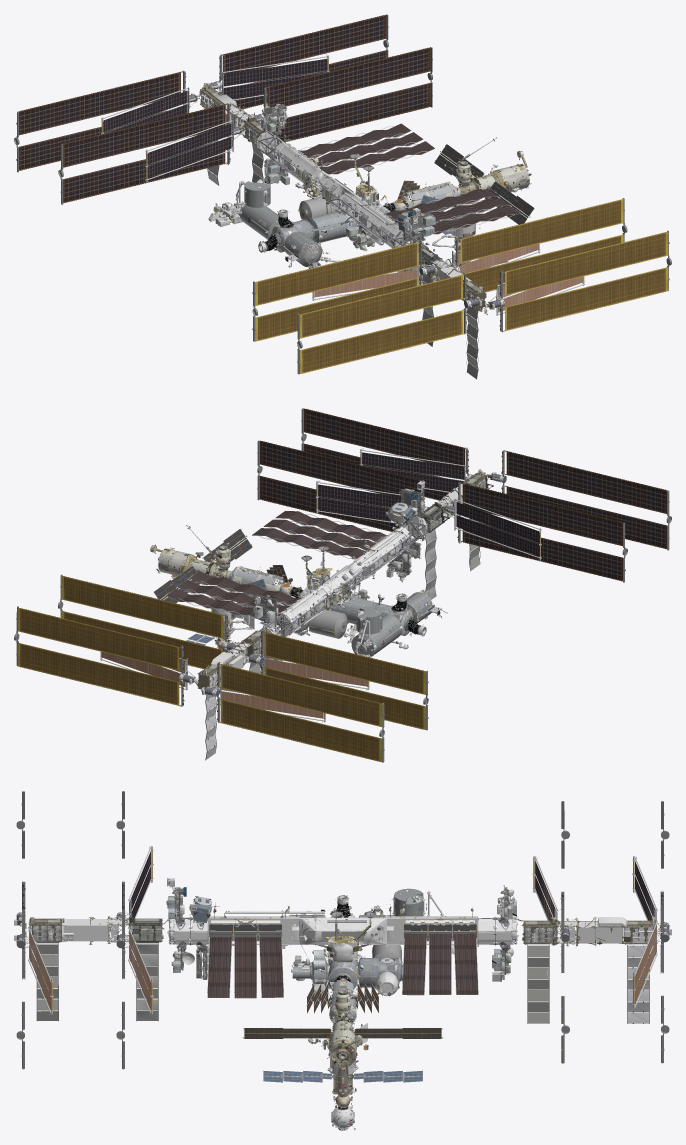
The model's file is iss.glb.
3 renders of one model, top to bottom at view 1: azimuth 30°, elevation 25°; view 2: azimuth 150°, elevation 25°; view 3: azimuth 270°, elevation 25°, orthographic. The views are drawn at different scales.
Visible parts, largest first — view 1: P4_Array_2A.001 (×2), S4_Array_1A.001 (×2), P4_Array_4A.001, S4_Array_3A.001, P6_2B_Array.001, IROSA_Deployed_P44A (×3), P6_4B_Array.001, IROSA_Deployed_P64B (×3), P1_Radiator.003, S1_Radiator.001, Zvezda_SM, Truss_S6 (+15 smaller); view 2: S4_Array_1A.001 (×2), P4_Array_2A.001 (×2), P6_2B_Array.001, P6_4B_Array.001, P4_Array_4A.001, S4_Array_3A.001, IROSA_Deployed_P64B (×3), IROSA_Deployed_P44A (×3), S1_Radiator.001, P1_Radiator.003, Zvezda_SM, Truss_P6 (+13 smaller); view 3: S1_Radiator.001, P1_Radiator.003, Truss_S6, Zvezda_SM, Truss_P6, IROSA_Deployed_P64B (×3), Truss_P4, IROSA_Deployed_P44A (×3), MLM.001, Truss_S4.001, Truss_S0.001, Zarya_FGB.001 (+11 smaller).
Boxes of the visible parts, x1,y1,x2,y2 form: P4_Array_2A.001 (×2): (250, 47, 671, 332); S4_Array_1A.001 (×2): (252, 240, 481, 374); P4_Array_4A.001: (58, 103, 241, 204); S4_Array_3A.001: (453, 198, 627, 292); P6_2B_Array.001: (14, 70, 197, 172); IROSA_Deployed_P44A (×3): (101, 87, 419, 300); P6_4B_Array.001: (204, 14, 388, 109); IROSA_Deployed_P64B (×3): (221, 55, 584, 315); P1_Radiator.003: (286, 123, 434, 174); S1_Radiator.001: (373, 189, 521, 244); Zvezda_SM: (434, 144, 534, 224); Truss_S6: (439, 266, 490, 379); S4_Array_1A.001 (×2): (446, 450, 671, 582); P4_Array_2A.001 (×2): (58, 408, 473, 669); P6_2B_Array.001: (202, 662, 384, 762); P6_4B_Array.001: (14, 606, 195, 706); P4_Array_4A.001: (246, 629, 428, 730); S4_Array_3A.001: (257, 440, 429, 541); IROSA_Deployed_P64B (×3): (100, 449, 466, 690); IROSA_Deployed_P44A (×3): (220, 498, 541, 722); S1_Radiator.001: (252, 510, 398, 558); P1_Radiator.003: (166, 571, 312, 632); Zvezda_SM: (153, 528, 252, 603); Truss_P6: (193, 649, 243, 760); S1_Radiator.001: (207, 920, 283, 998); P1_Radiator.003: (402, 919, 478, 995); Truss_S6: (20, 918, 108, 1021); Zvezda_SM: (242, 1016, 443, 1067); Truss_P6: (577, 917, 660, 1023); IROSA_Deployed_P64B (×3): (28, 919, 657, 1014); Truss_P4: (516, 918, 561, 1023); IROSA_Deployed_P44A (×3): (128, 846, 657, 943); MLM.001: (263, 1023, 422, 1109); Truss_S4.001: (120, 917, 171, 1021); Truss_S0.001: (299, 917, 386, 960); Zarya_FGB.001: (306, 979, 378, 1023).
Size of the model in its own units: 7.46 by 3.11 by 10.08.
Materials: 42 (40 with a texture image).
